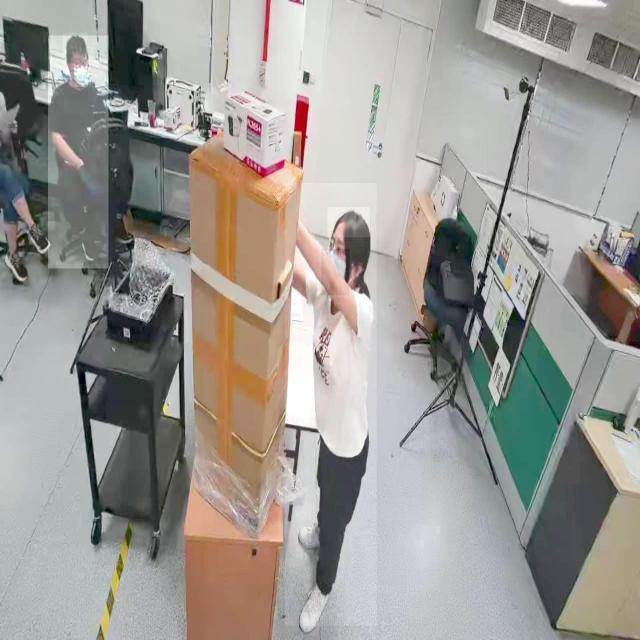face_mask: (322, 249, 349, 295), (74, 60, 88, 88)
head_nohelmet: (328, 207, 370, 238), (63, 33, 88, 55)
person: (285, 183, 377, 627), (48, 36, 109, 270)
shoes: (296, 574, 332, 634), (297, 520, 338, 556)
